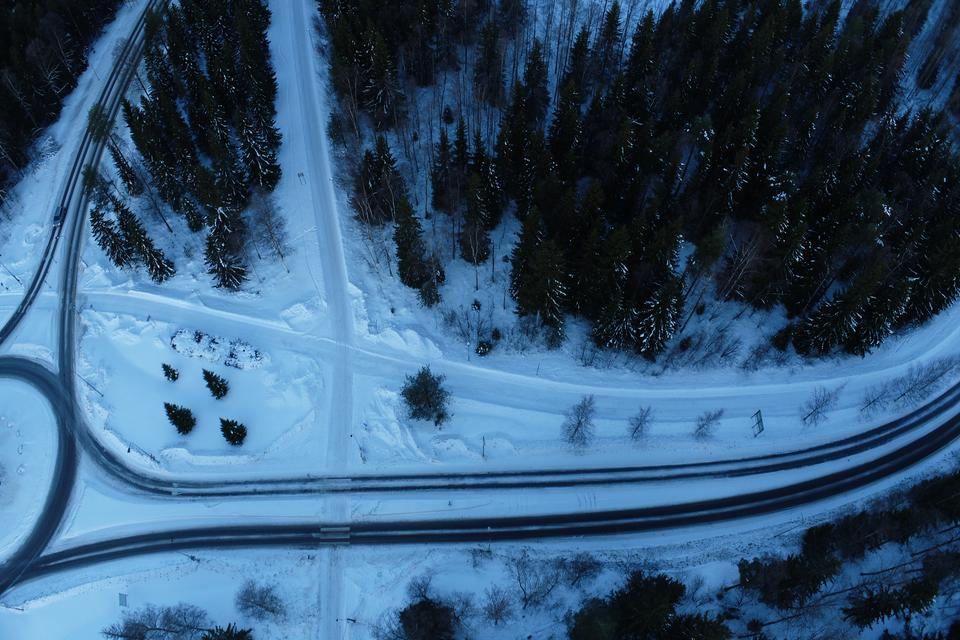intersection: (290, 456, 365, 562), (0, 270, 110, 328)
roundabout: (0, 337, 114, 609)
